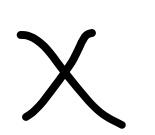mult: (17, 29, 125, 129)
